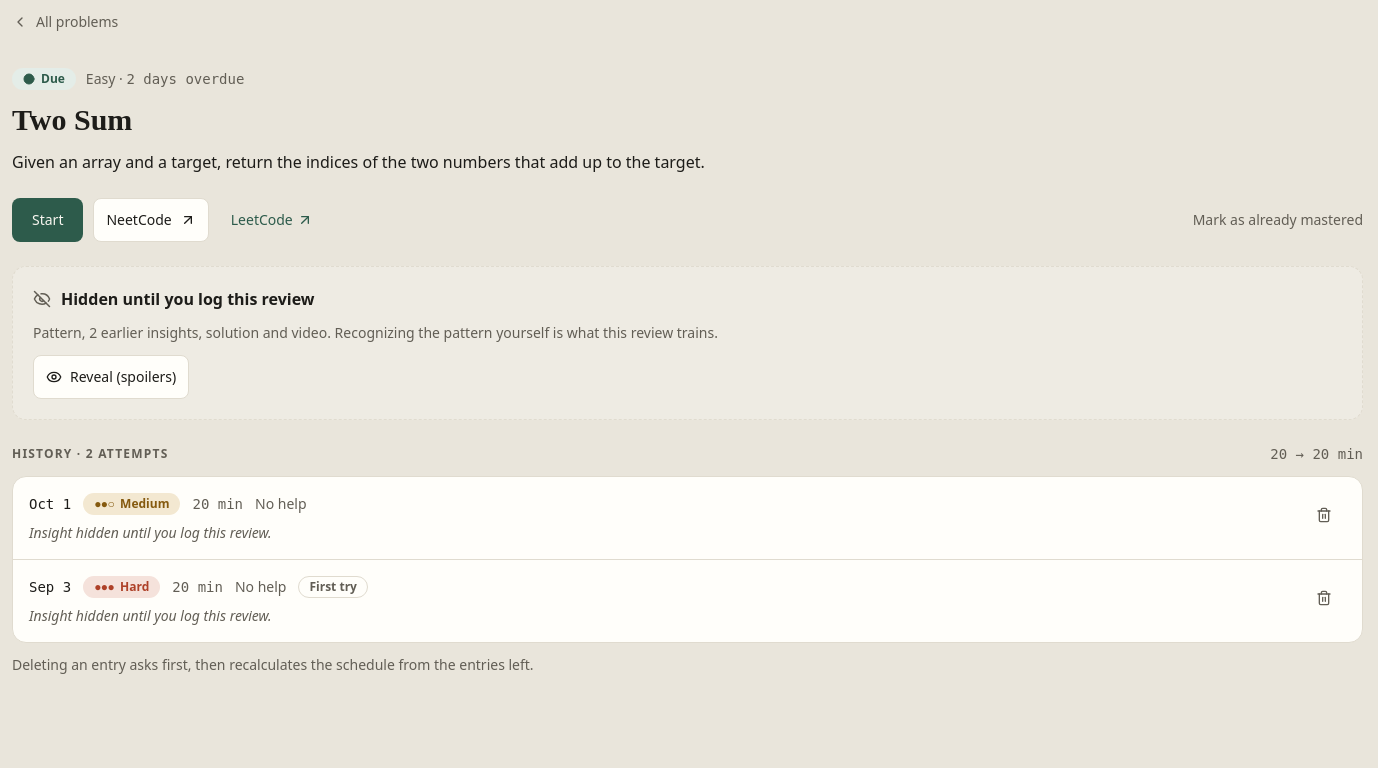
Test: ProblemDetailPage › hides a due problem's pattern and earlier insights until the reveal toggle is used
The width and height of the screenshot is (1378, 768).
Expected: the text "Arrays & Hashing" is not shown
Expected: the text "Store each complement as you go" is not shown
Step 1. Click the button "Reveal (spoilers)" → (111, 377), box [33,355,189,399]
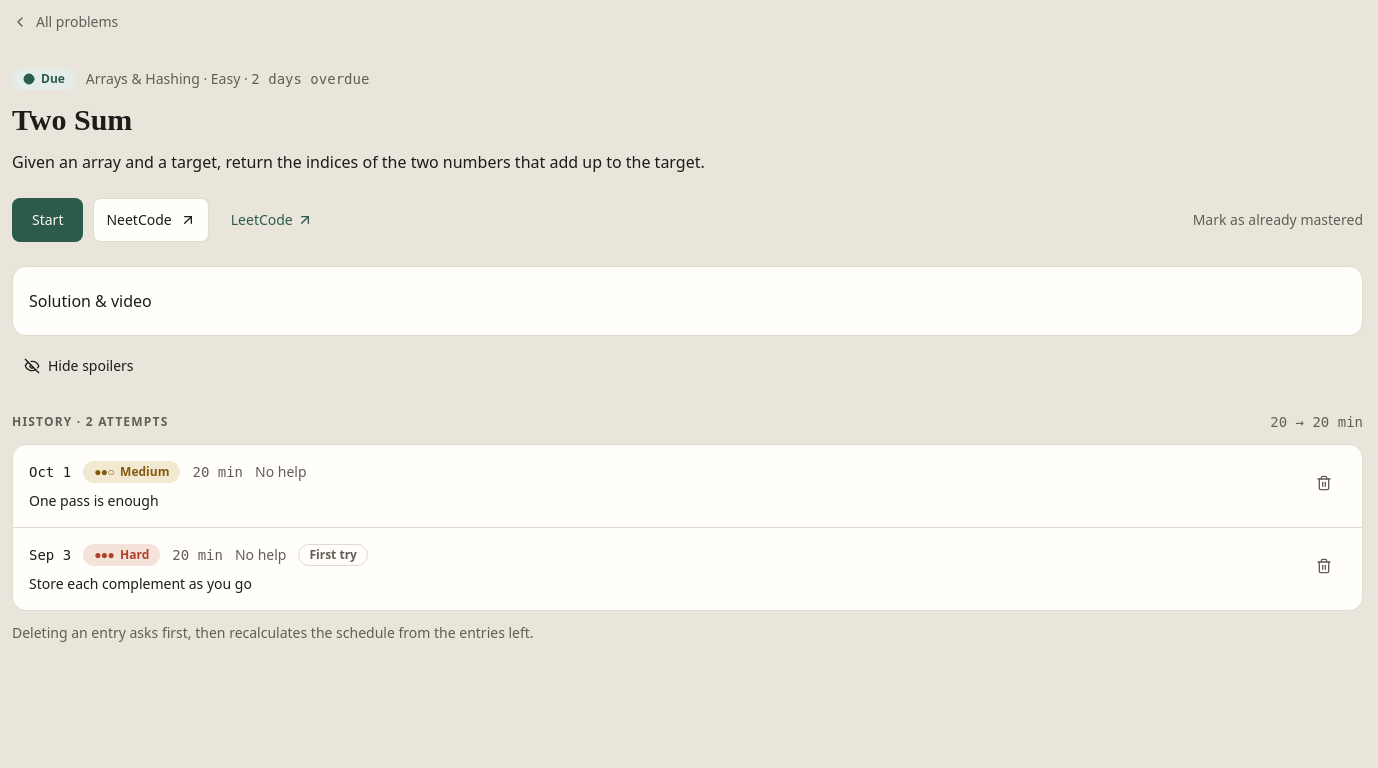
Expected: the text "Arrays & Hashing · Easy · 2 days overdue" is shown, [86,69,369,89]
Expected: the text "Store each complement as you go" is shown, [29,574,252,593]
Expected: the text "One pass is enough" is shown, [29,491,158,510]
